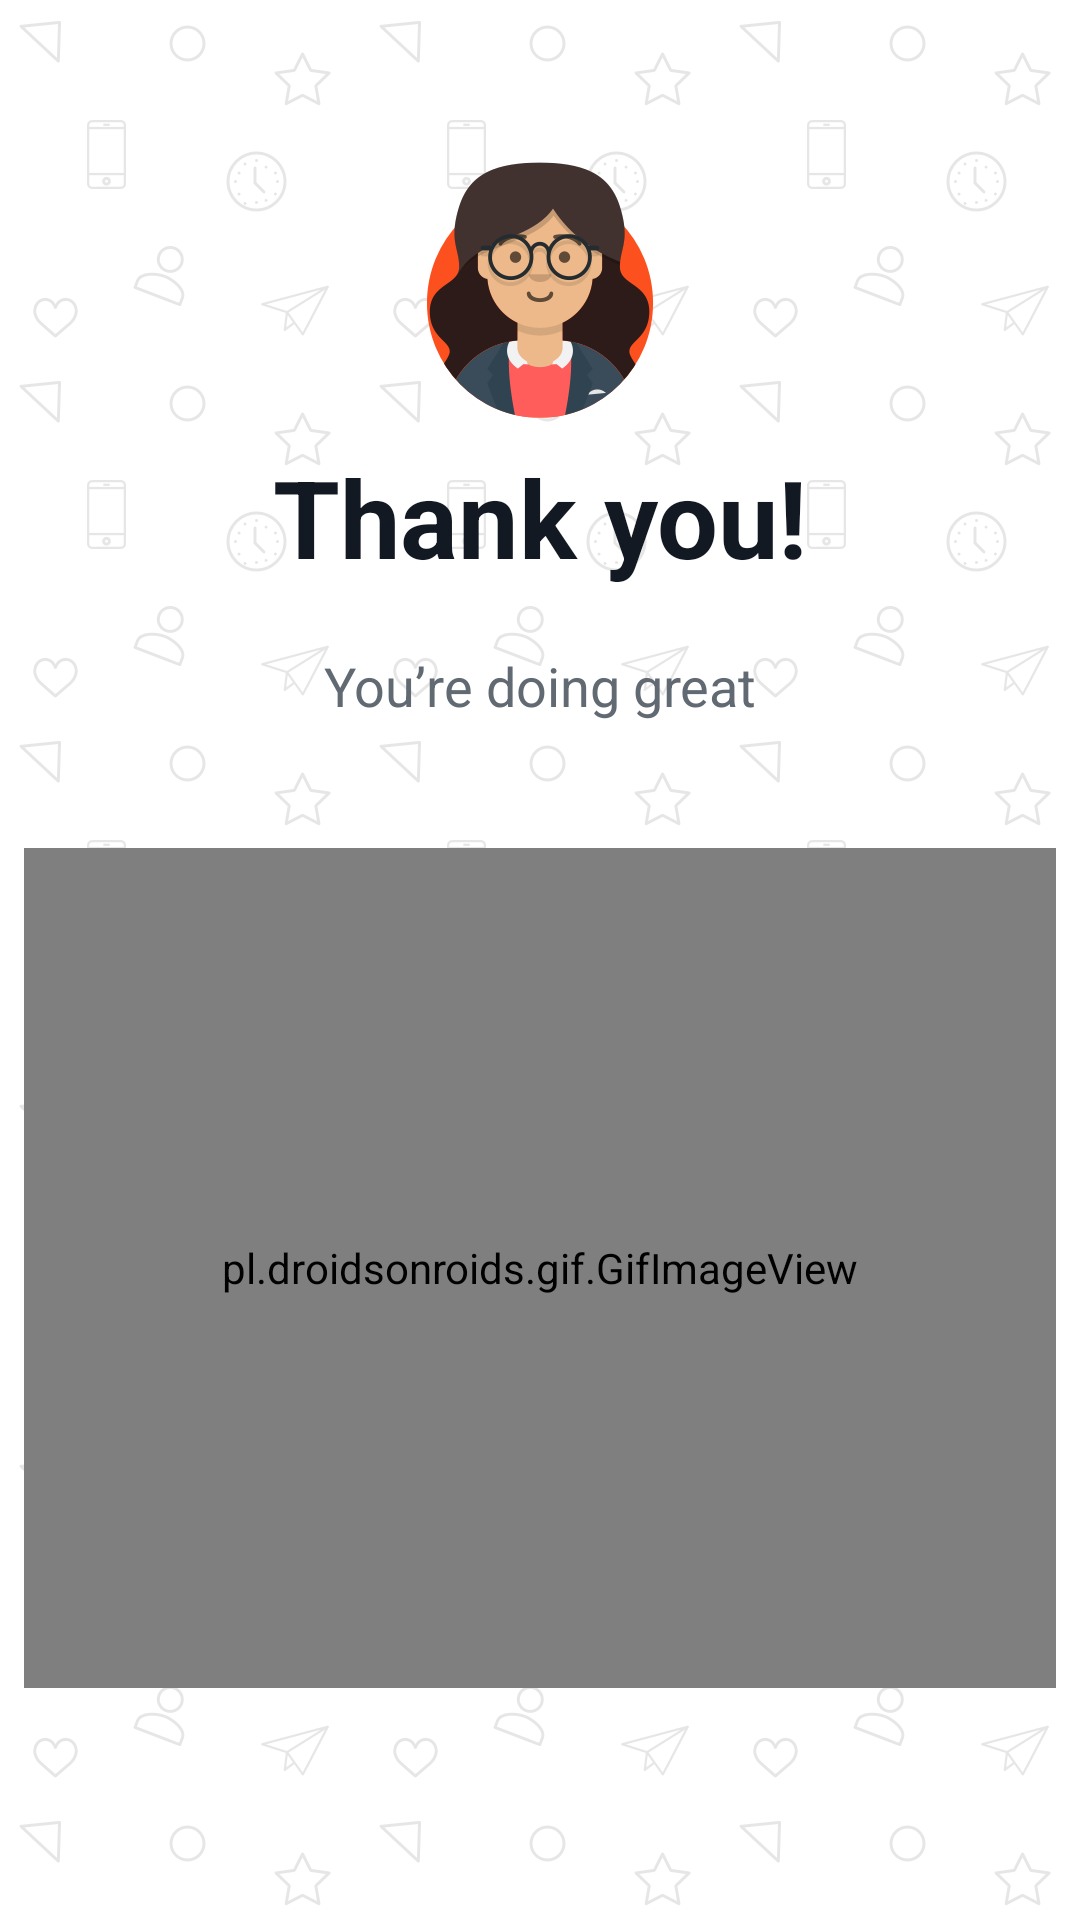

Named icons in this screenshot (1080 x 1920) and their centers, (x,y):
character curly: (540,285)
